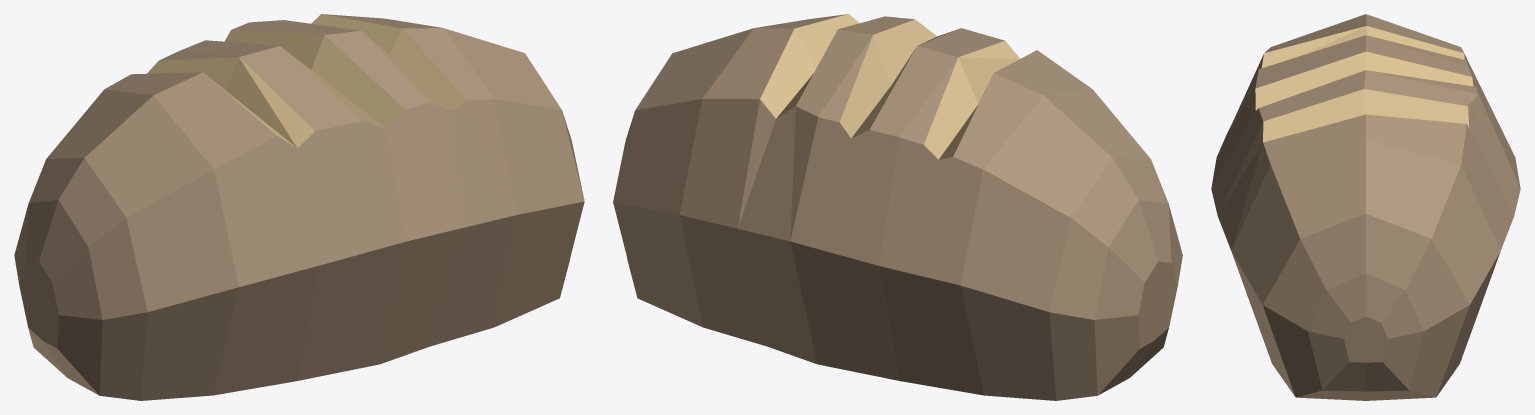
Rendered from bread.glb.
3 views of the same model, side by side, from view 1: azimuth 30°, elevation 25°; view 2: azimuth 150°, elevation 25°; view 3: azimuth 270°, elevation 25° (orthographic). The views are drawn at different scales.
Parts seen in each view (by area): view 1: Sphere; view 2: Sphere; view 3: Sphere.
Boxes of the visible parts, left/top/right/bottom form: Sphere: left=14, top=14, right=584, bottom=400; Sphere: left=613, top=14, right=1182, bottom=400; Sphere: left=1211, top=14, right=1520, bottom=400.
Size of the model in its own units: 0.306 by 0.1663 by 0.1808.
1 material, 1 textured.
